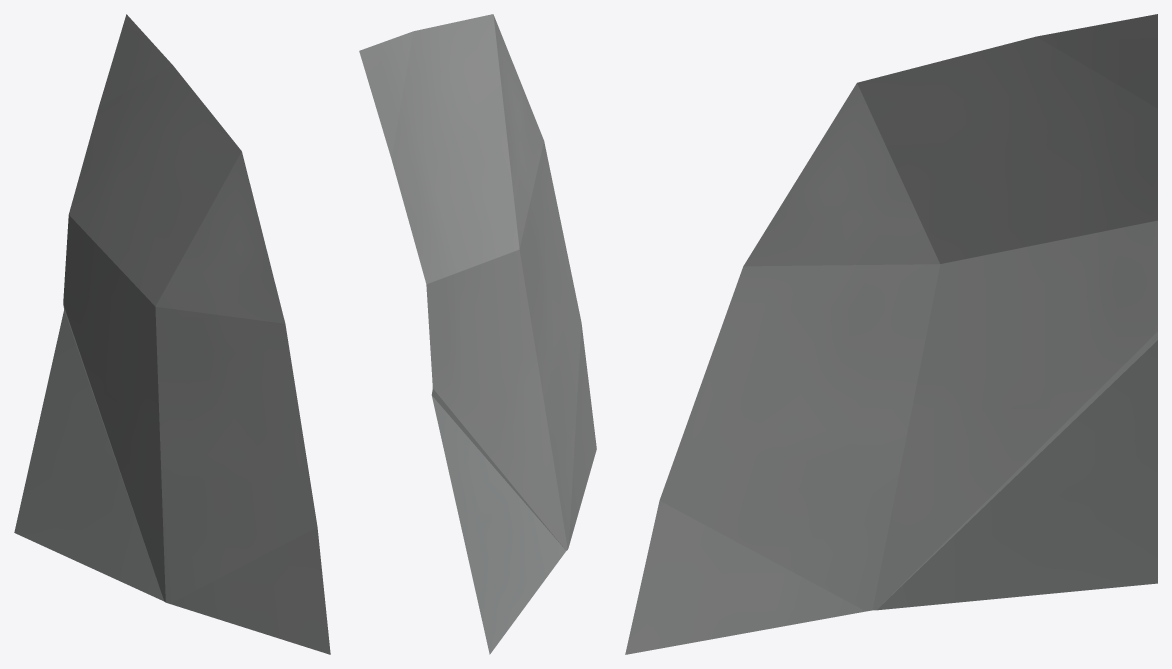
3 renders of one model, left to right at view 1: azimuth 30°, elevation 25°; view 2: azimuth 150°, elevation 25°; view 3: azimuth 270°, elevation 25°, orthographic. The views are drawn at different scales.
Bounding box in the file's own units: 0.0313 × 0.1309 × 0.0986.
1 material, 1 textured.
